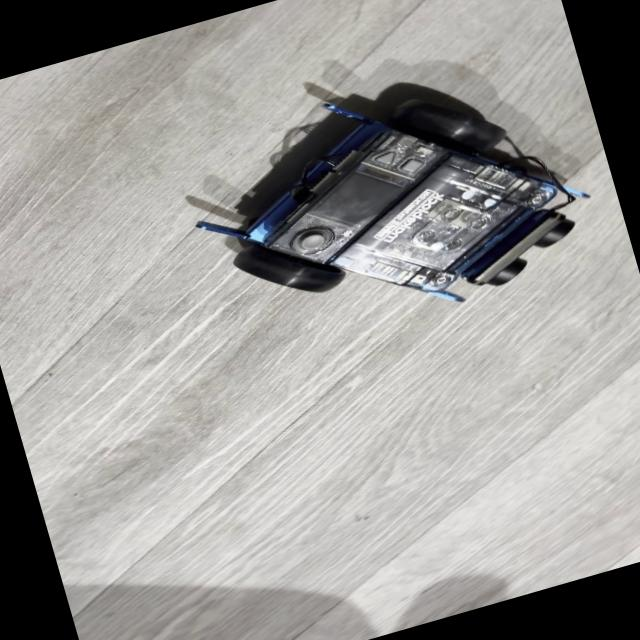mbot-detection: (155, 24, 620, 377)
